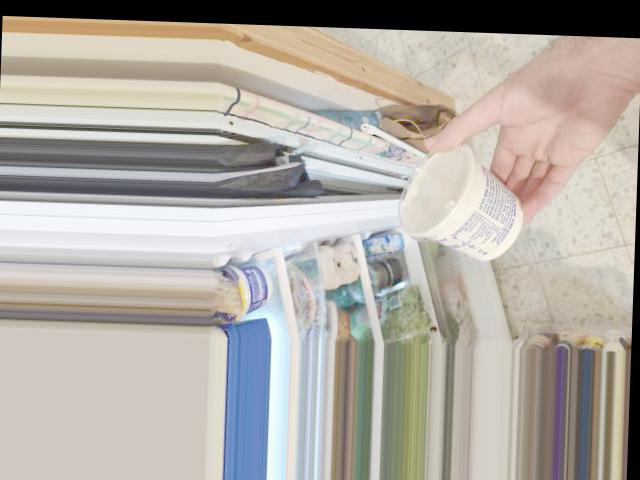cotage: (393, 149, 514, 257)
